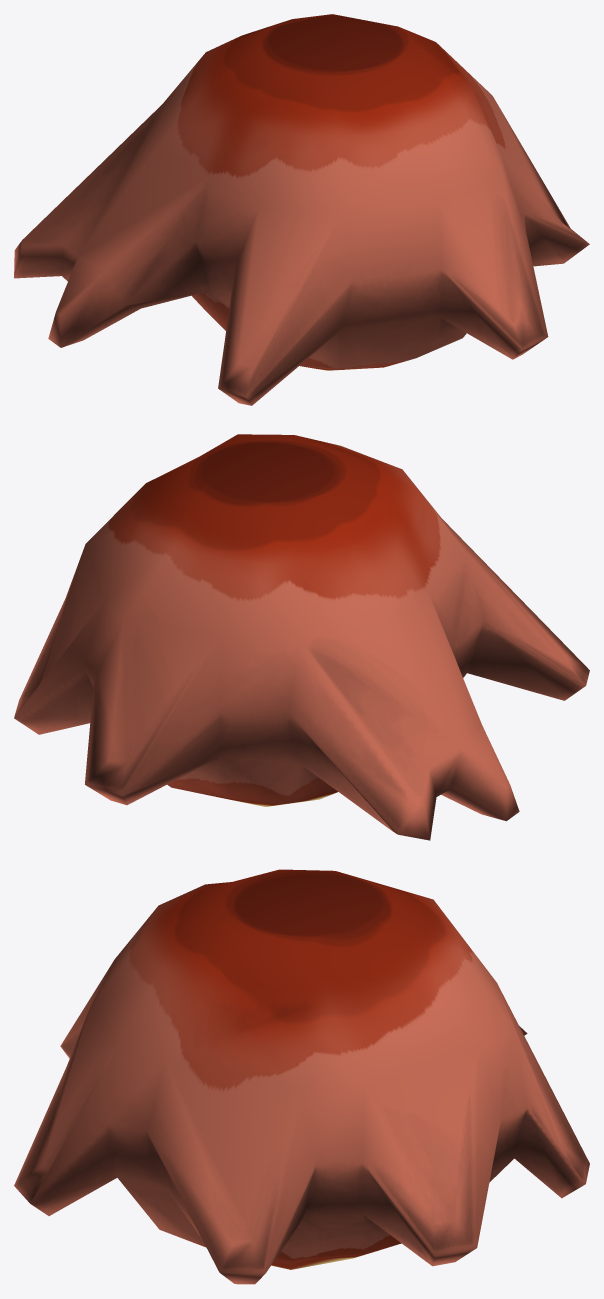
The model's file is PhagocyteMissile.FBX.
3 views of the same model, one above another, from view 1: azimuth 30°, elevation 25°; view 2: azimuth 150°, elevation 25°; view 3: azimuth 270°, elevation 25° (orthographic). The views are drawn at different scales.
Parts seen in each view (by area): view 1: Phagocyte; view 2: Phagocyte; view 3: Phagocyte.
Boxes of the visible parts, bbox=[...] form: Phagocyte: bbox=[14, 14, 589, 405]; Phagocyte: bbox=[14, 434, 589, 840]; Phagocyte: bbox=[14, 869, 589, 1284].
Size of the model in its own units: 20.05 by 11.78 by 18.81.
